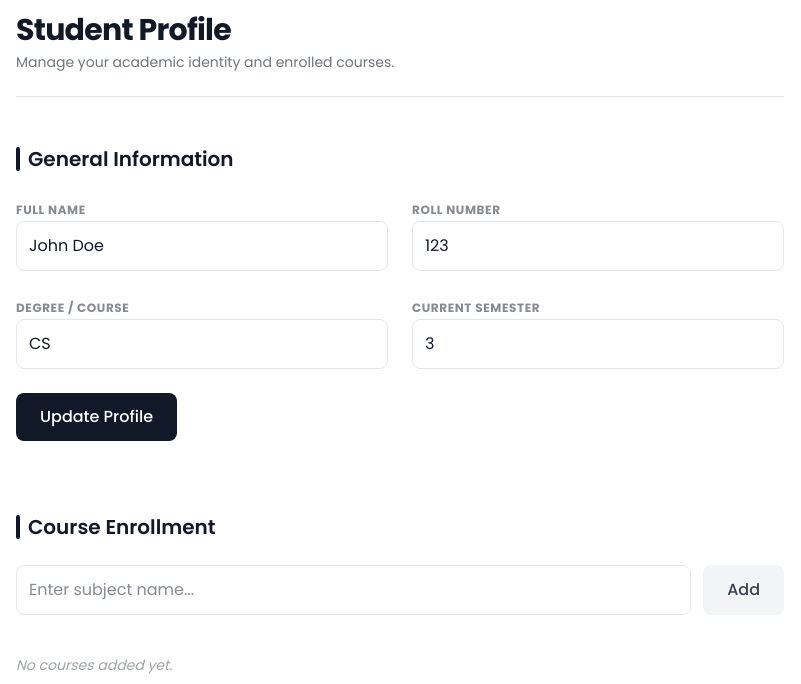
Scenario: ProfilePage › adds and removes courses
The image size is (801, 684).
expect the text "No courses added yet." is shown: met, box x1=16 y1=655 x2=172 y2=675
# Add Course
In the field with placeholder "Enter subject name...": (354, 590) x1=16 y1=565 x2=691 y2=615, type "Chemistry"
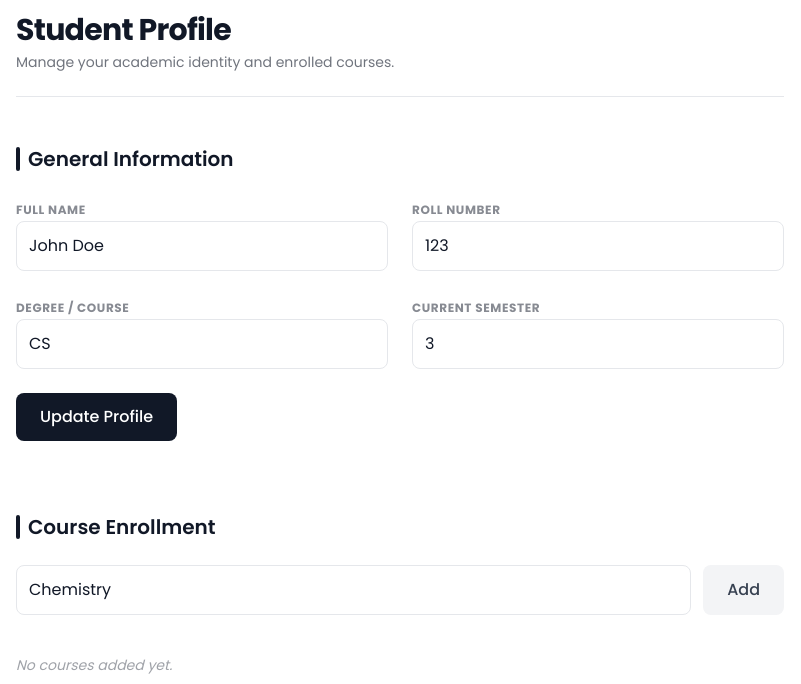
Click the button "Add": (744, 590) x1=703 y1=565 x2=784 y2=615
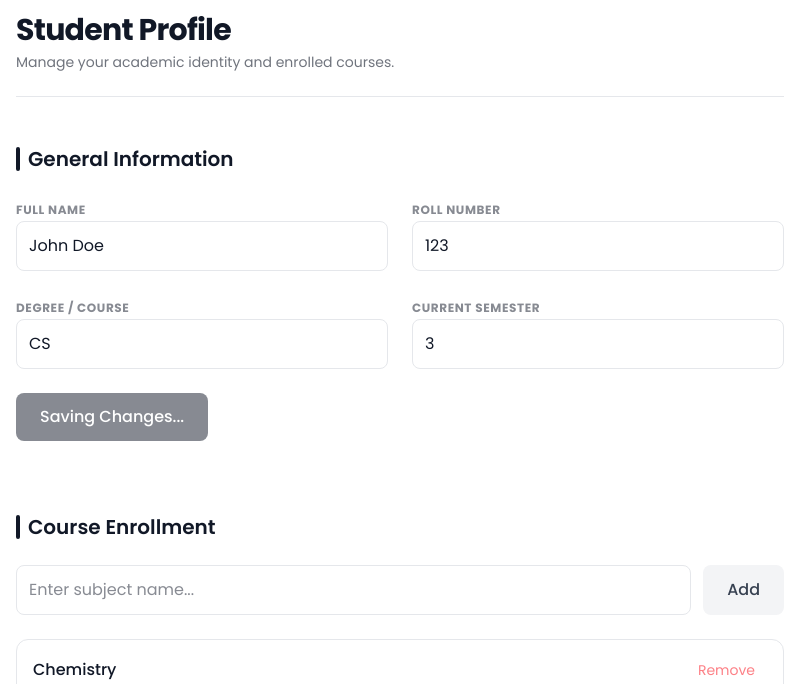
expect the text "Chemistry" is shown: met, box x1=33 y1=658 x2=116 y2=682
expect the field with placeholder "Enter subject name..." is empty: met, box x1=16 y1=565 x2=691 y2=615
# Remove Course
Click the button "Remove": (726, 670) x1=686 y1=656 x2=767 y2=683
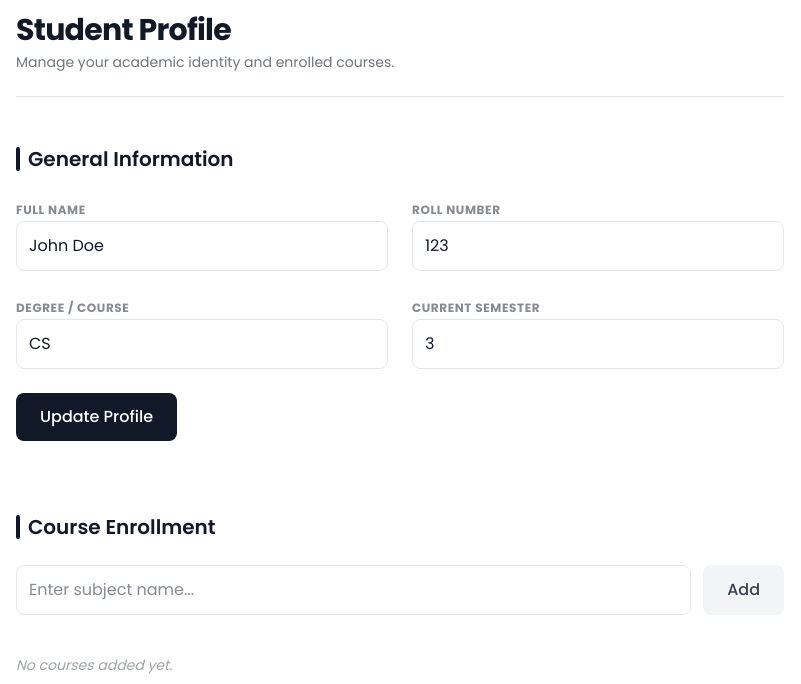
expect the text "Chemistry" is gone: met
